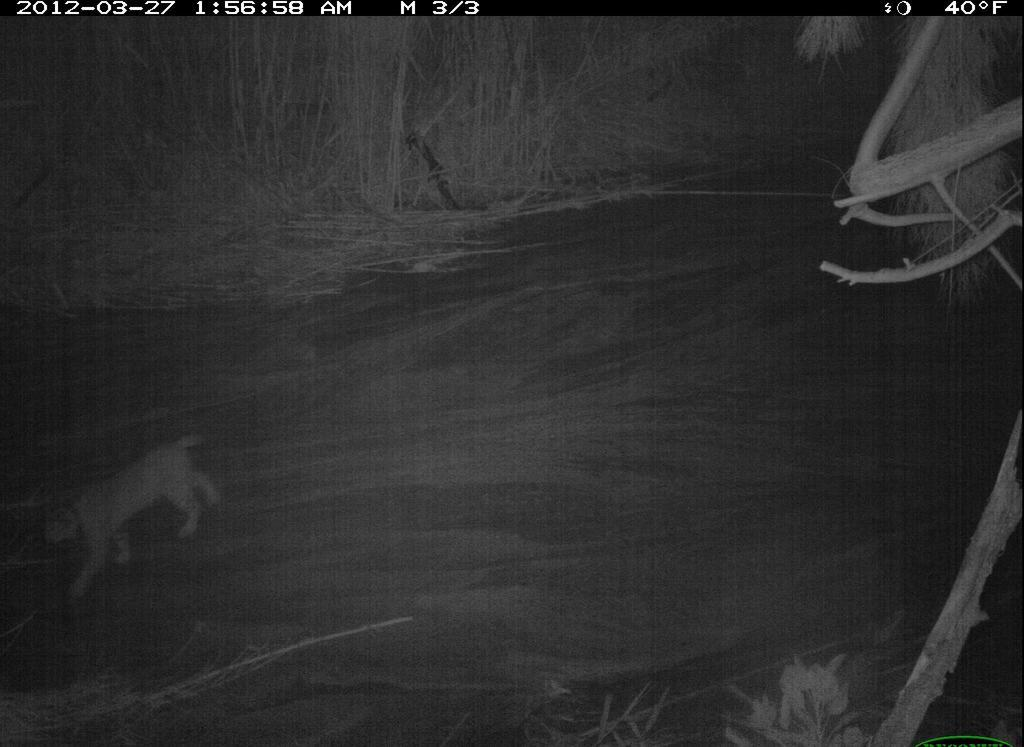bobcat: (25, 432, 228, 621)
